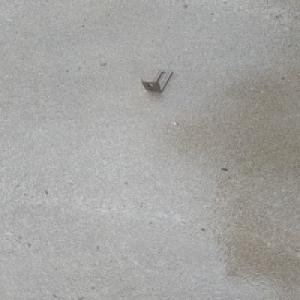MetalPart: (140, 68, 174, 92)
